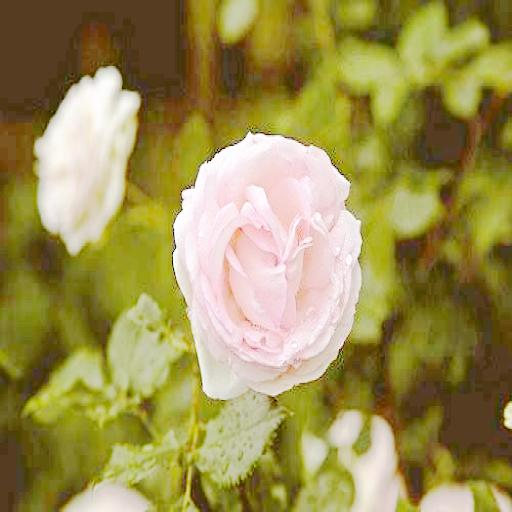rose: (173, 132, 361, 395)
